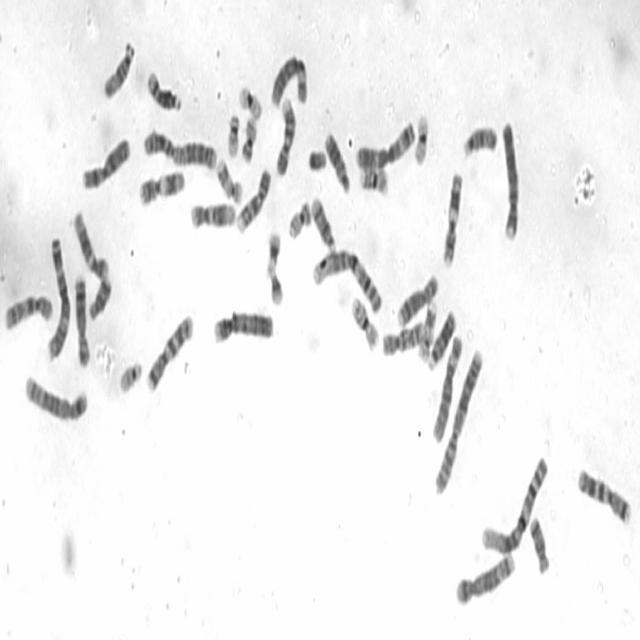A1: (479, 449, 549, 556), (309, 242, 384, 317)
A2: (432, 343, 485, 498), (141, 123, 219, 173)
A3: (44, 230, 72, 363), (353, 115, 416, 172)
B4: (498, 116, 521, 243), (211, 304, 275, 345)
B5: (453, 546, 516, 607), (22, 371, 89, 424)
C10: (1, 288, 54, 334), (381, 316, 426, 358)
C11: (441, 167, 464, 269), (137, 164, 187, 207)
C12: (70, 206, 110, 280), (188, 196, 237, 230)
C6: (430, 328, 462, 446), (269, 51, 309, 109)
C7: (144, 308, 195, 396), (574, 462, 632, 526)
C8: (395, 269, 439, 328), (72, 270, 91, 368)
C9: (234, 162, 272, 236), (274, 93, 297, 176)
D13: (322, 126, 352, 196), (426, 304, 456, 372)
D14: (144, 65, 182, 115), (309, 191, 337, 255)
D15: (101, 34, 136, 102), (461, 120, 498, 161)
E16: (350, 290, 380, 352), (358, 161, 390, 197)
E17: (415, 293, 438, 363), (214, 152, 243, 206)
E18: (528, 511, 550, 575), (86, 271, 112, 322)
F19: (236, 80, 263, 121), (412, 108, 429, 167)
F20: (286, 196, 313, 241), (240, 110, 258, 164)
G21: (264, 225, 282, 276), (267, 265, 284, 308)
G22: (116, 354, 144, 396), (224, 107, 240, 160)
X: (80, 133, 132, 191)
Y: (306, 146, 327, 173)
